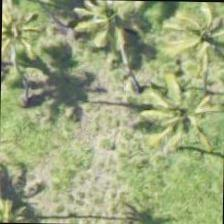Kelapa_Sawit: (130, 52, 222, 144), (145, 1, 223, 80), (63, 0, 155, 60)
